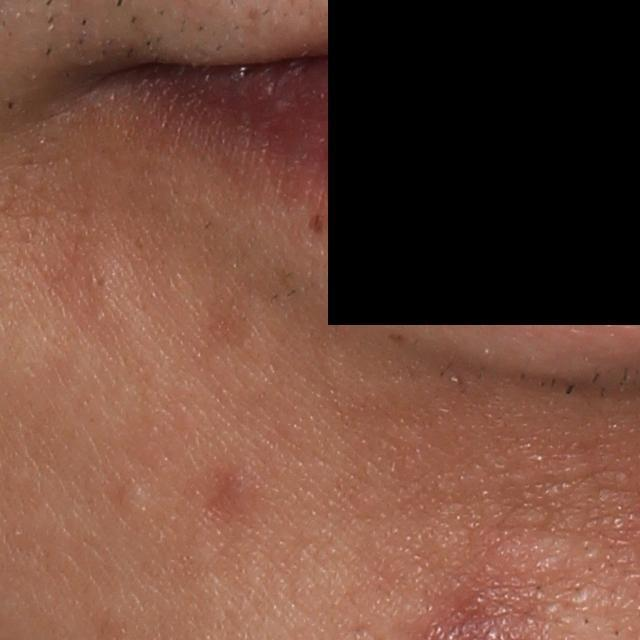comedo: (117, 480, 152, 520)
nevus: (306, 212, 326, 237)
